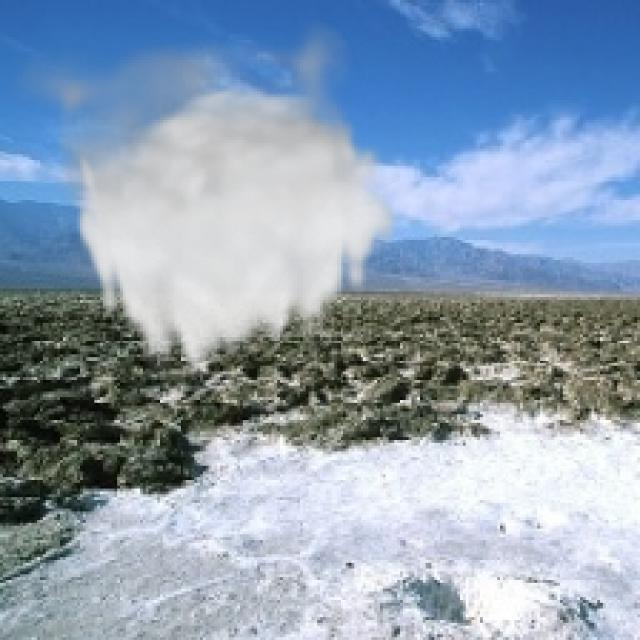Smoke: (6, 14, 400, 386)
